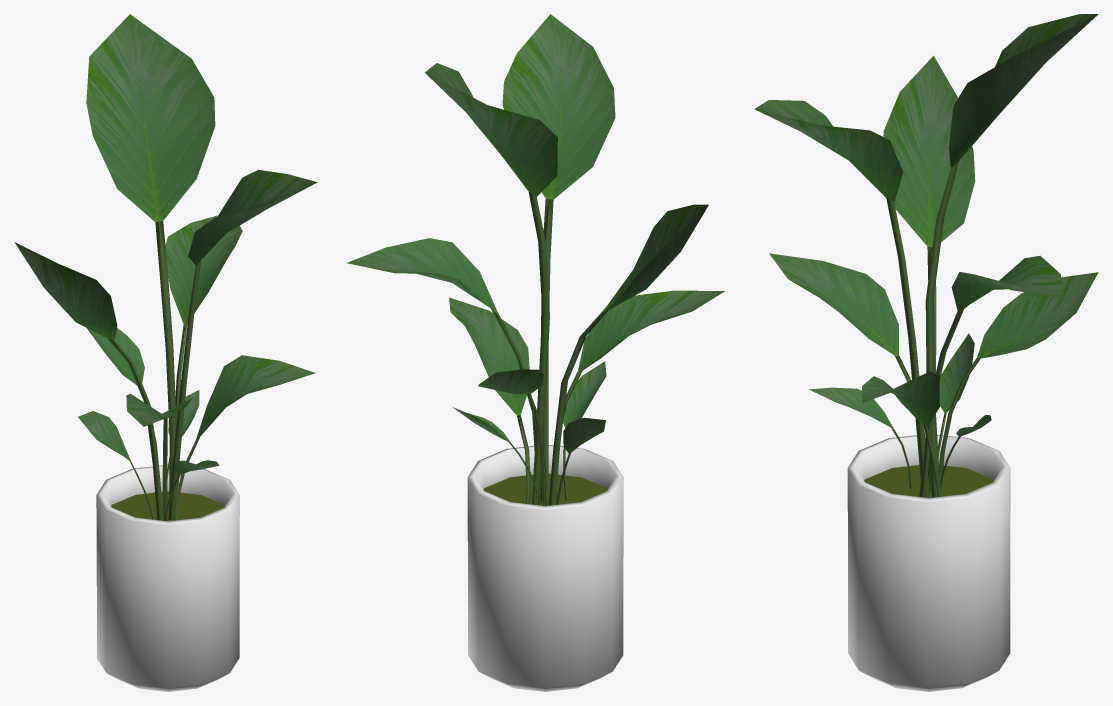
File: plant.glb
The picture shows the model from 3 angles, left to right: view 1: azimuth 30°, elevation 25°; view 2: azimuth 150°, elevation 25°; view 3: azimuth 270°, elevation 25°; orthographic projection. The views are drawn at different scales.
Visible parts, largest first — view 1: Object_6, Object_4, Object_26; view 2: Object_6, Object_4, Object_26; view 3: Object_6, Object_4, Object_26.
Boxes of the visible parts, bbox=[...] form: Object_6: bbox=[14, 14, 317, 521]; Object_4: bbox=[96, 464, 239, 691]; Object_26: bbox=[111, 491, 225, 521]; Object_6: bbox=[346, 14, 724, 505]; Object_4: bbox=[467, 445, 623, 691]; Object_26: bbox=[483, 473, 607, 505]; Object_6: bbox=[754, 14, 1098, 497]; Object_4: bbox=[847, 434, 1010, 691]; Object_26: bbox=[864, 465, 993, 497].
Size of the model in its own units: 0.6201 by 1.27 by 0.5909.
3 materials, 1 textured.
